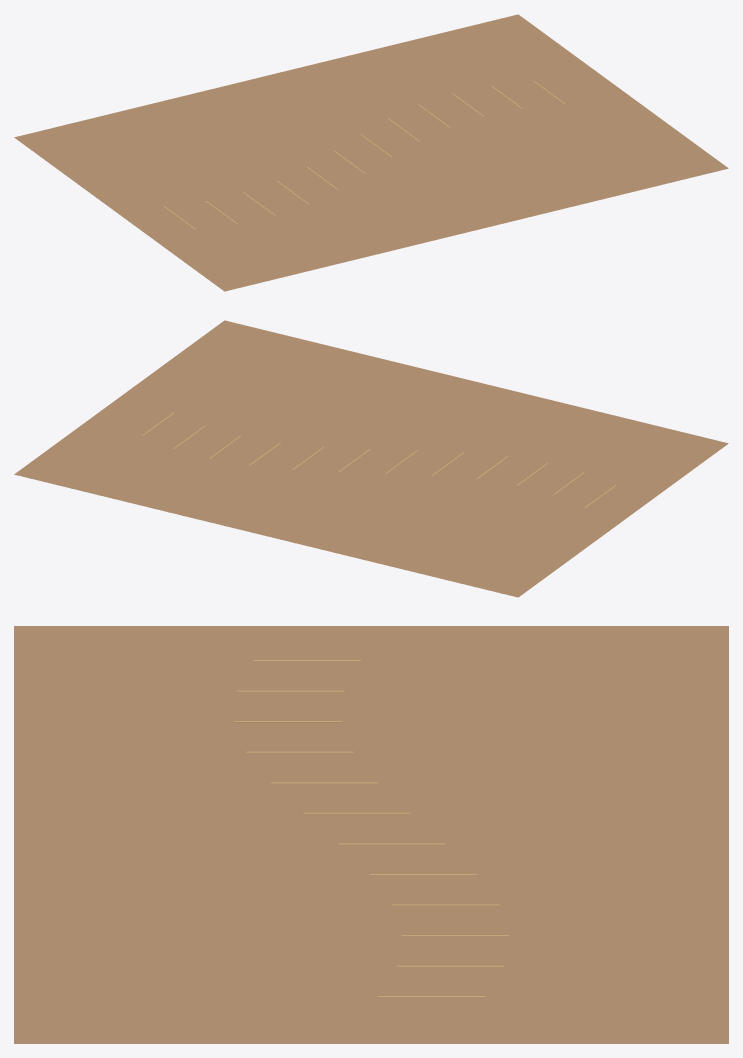
File: 276_L120_L11_LayerReference.glb
3 renders of one model, top to bottom at view 1: azimuth 30°, elevation 25°; view 2: azimuth 150°, elevation 25°; view 3: azimuth 270°, elevation 25°, orthographic. The views are drawn at different scales.
Visible parts, largest first — view 1: 0000__PSMAT__copper_dark; view 2: 0000__PSMAT__copper_dark; view 3: 0000__PSMAT__copper_dark.
Boxes of the visible parts, x1,y1,x2,y2 form: 0000__PSMAT__copper_dark: [14, 14, 728, 291]; 0000__PSMAT__copper_dark: [14, 320, 728, 597]; 0000__PSMAT__copper_dark: [14, 626, 728, 1043].
Size of the model in its own units: 0.506 by 0.000154 by 0.366.
